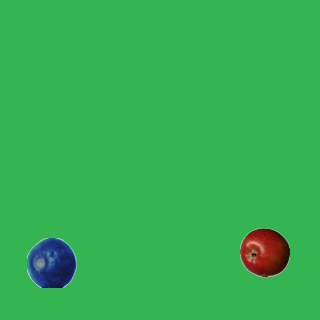Apple Braeburn: (239, 227, 289, 277)
Huckleberry: (26, 237, 76, 287)
